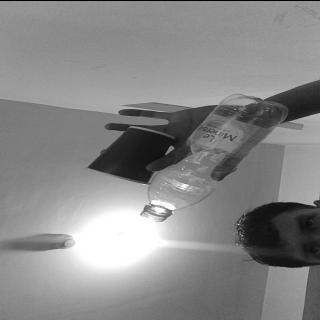objects: (90, 125, 174, 184)
plastic_bottles: (140, 92, 292, 222)
